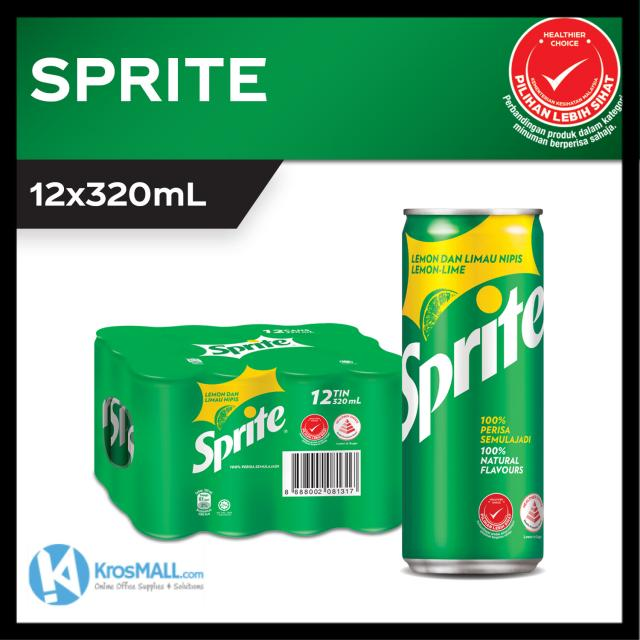sprite: (377, 206, 552, 591)
